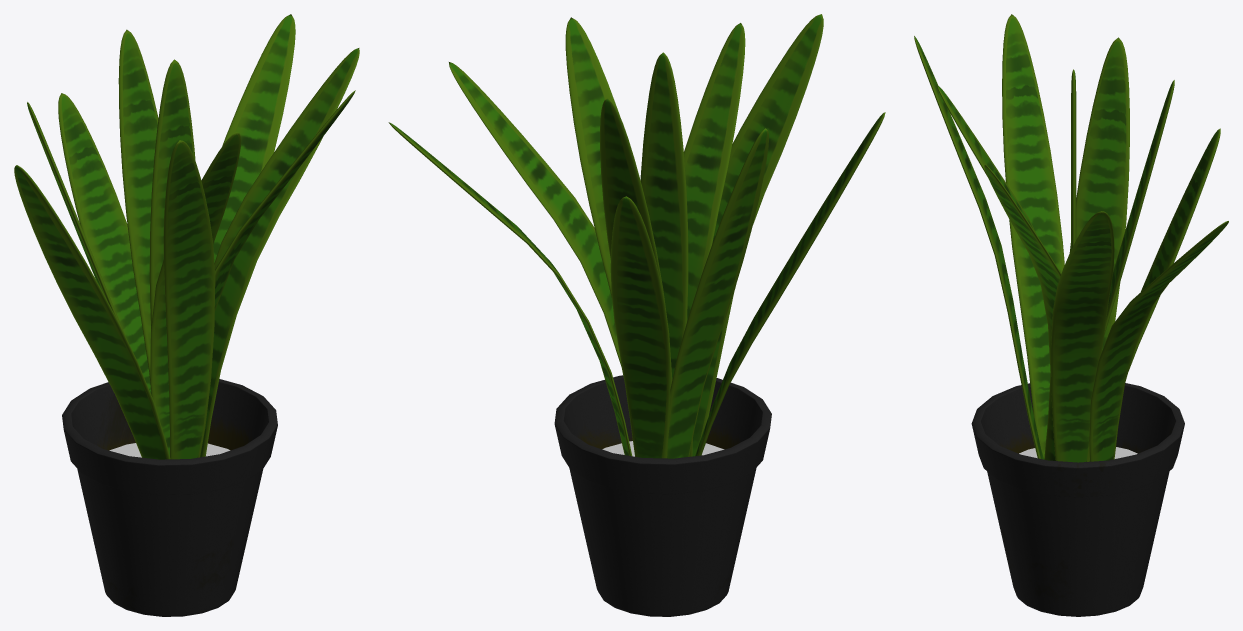
File: VasoSaintJorge_MESH.fbx
3 views of the same model, side by side, from view 1: azimuth 30°, elevation 25°; view 2: azimuth 150°, elevation 25°; view 3: azimuth 270°, elevation 25° (orthographic). The views are drawn at different scales.
Parts seen in each view (by area): view 1: Vaso_de_São_Jorge, Espada_de_São_George7, Espada_de_São_George8, Espada_de_São_George3, Espada_de_São_George6, Espada_de_São_George4, Espada_de_São_George9, Espada_de_São_George, Espada_de_São_George1, Espada_de_São_George2, Espada_de_São_George5, Terra; view 2: Vaso_de_São_Jorge, Espada_de_São_George6, Espada_de_São_George5, Espada_de_São_George1, Espada_de_São_George, Espada_de_São_George7, Espada_de_São_George3, Espada_de_São_George2, Espada_de_São_George8, Espada_de_São_George4, Espada_de_São_George9; view 3: Vaso_de_São_Jorge, Espada_de_São_George8, Espada_de_São_George3, Espada_de_São_George5, Espada_de_São_George9, Espada_de_São_George7, Espada_de_São_George2, Espada_de_São_George6, Espada_de_São_George4, Espada_de_São_George, Espada_de_São_George1.
Part boxes in pixels (<box>): Vaso_de_São_Jorge: <box>62,379,277,616</box>; Espada_de_São_George7: <box>163,140,215,459</box>; Espada_de_São_George8: <box>14,165,170,459</box>; Espada_de_São_George3: <box>200,48,359,457</box>; Espada_de_São_George6: <box>58,93,151,393</box>; Espada_de_São_George4: <box>118,29,158,387</box>; Espada_de_São_George9: <box>213,14,295,262</box>; Espada_de_São_George: <box>150,132,241,455</box>; Espada_de_São_George1: <box>149,59,195,328</box>; Espada_de_São_George2: <box>214,90,355,311</box>; Espada_de_São_George5: <box>27,102,124,334</box>; Terra: <box>109,443,230,457</box>; Vaso_de_São_Jorge: <box>554,375,771,616</box>; Espada_de_São_George6: <box>610,196,670,458</box>; Espada_de_São_George5: <box>665,128,768,458</box>; Espada_de_São_George1: <box>640,52,688,378</box>; Espada_de_São_George: <box>684,23,745,456</box>; Espada_de_São_George7: <box>692,14,823,456</box>; Espada_de_São_George3: <box>449,62,623,376</box>; Espada_de_São_George2: <box>565,17,619,297</box>; Espada_de_São_George8: <box>695,112,885,456</box>; Espada_de_São_George4: <box>600,98,672,388</box>; Espada_de_São_George9: <box>388,122,632,456</box>; Vaso_de_São_Jorge: <box>971,383,1184,616</box>; Espada_de_São_George8: <box>1002,14,1064,458</box>; Espada_de_São_George3: <box>1051,211,1114,462</box>; Espada_de_São_George5: <box>1069,37,1129,461</box>; Espada_de_São_George9: <box>1089,221,1228,461</box>; Espada_de_São_George7: <box>914,36,1044,459</box>; Espada_de_São_George2: <box>984,165,1061,460</box>; Espada_de_São_George6: <box>1128,128,1220,370</box>; Espada_de_São_George4: <box>1104,80,1174,334</box>; Espada_de_São_George: <box>937,85,1036,234</box>; Espada_de_São_George1: <box>1071,69,1076,249</box>.
Bounding box in the file's own units: 7.29 × 9.56 × 5.22.
